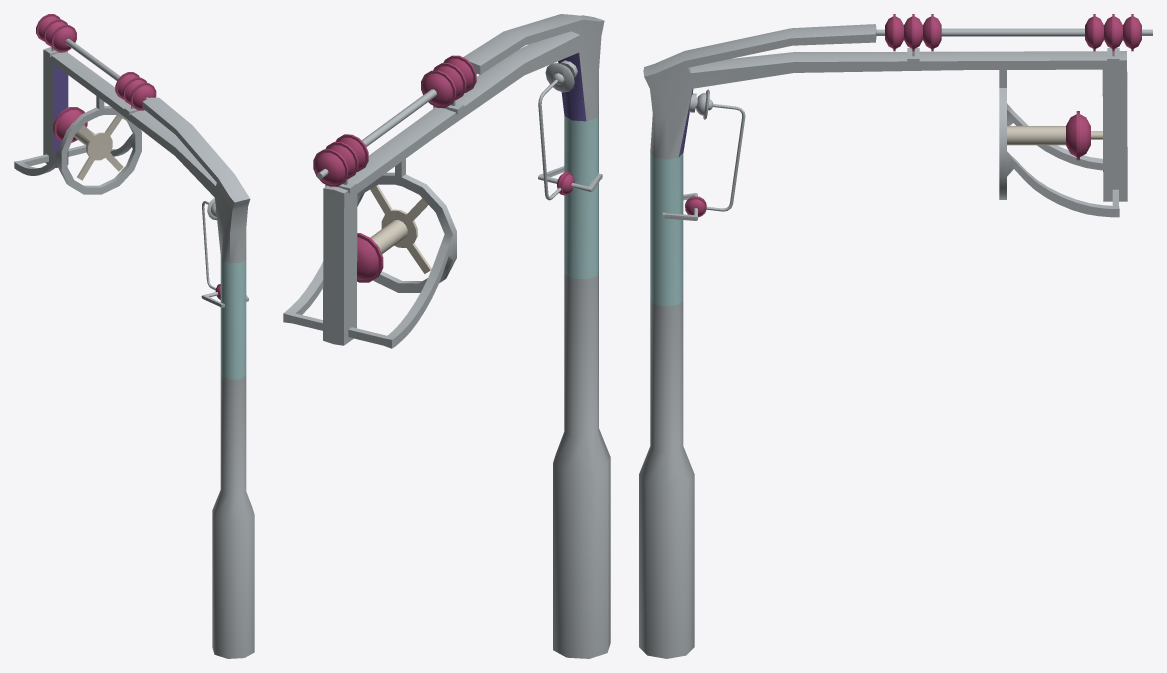
The model's file is trainenergy.glb.
3 renders of one model, left to right at view 1: azimuth 30°, elevation 25°; view 2: azimuth 150°, elevation 25°; view 3: azimuth 270°, elevation 25°, orthographic. The views are drawn at different scales.
Visible parts, largest first — view 1: Cube.003; view 2: Cube.003; view 3: Cube.003.
Part boxes in pixels (left/top/right/bottom): Cube.003: left=14, top=14, right=254, bottom=658; Cube.003: left=283, top=14, right=610, bottom=658; Cube.003: left=639, top=14, right=1152, bottom=658.
Size of the model in its own units: 1.53 by 9.11 by 6.72.
Materials: 1 (1 with a texture image).
